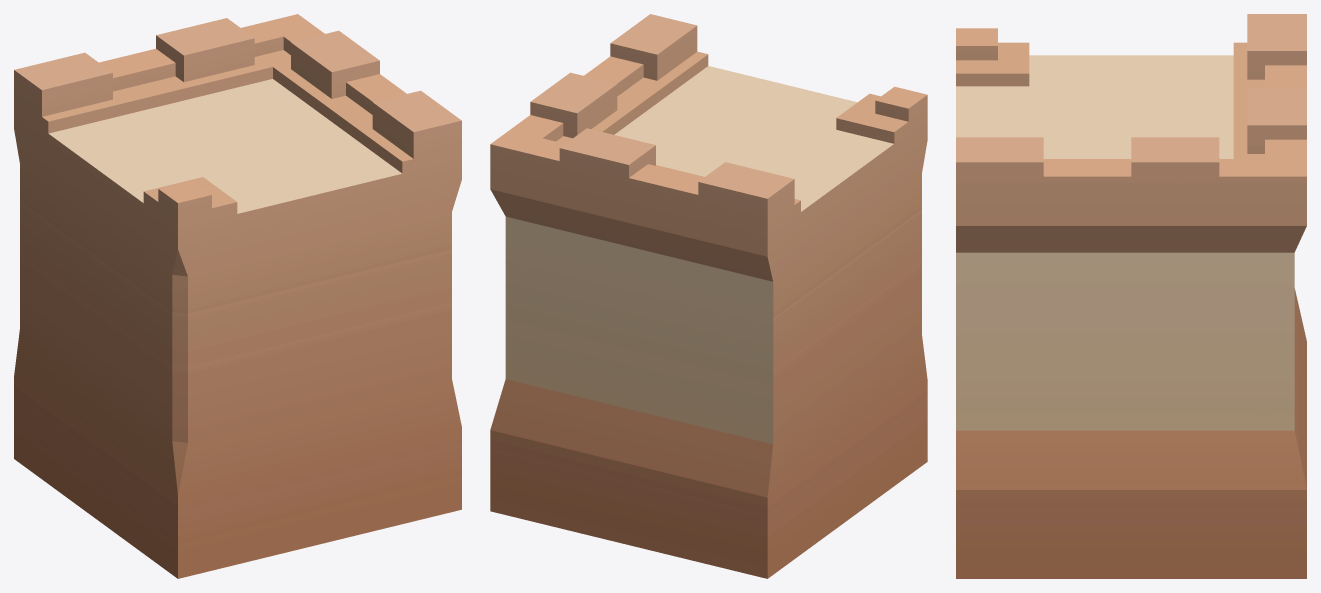
The model's file is wall-corner.glb.
3 renders of one model, left to right at view 1: azimuth 30°, elevation 25°; view 2: azimuth 150°, elevation 25°; view 3: azimuth 270°, elevation 25°, orthographic. The views are drawn at different scales.
Visible parts, largest first — view 1: wall-corner; view 2: wall-corner; view 3: wall-corner.
Part boxes in pixels (x1,y1,x2,y2): wall-corner: [14, 14, 461, 578]; wall-corner: [490, 14, 927, 578]; wall-corner: [956, 14, 1306, 578].
Bounding box in the file's own units: 1 × 1.31 × 1.
Materials: 1 (1 with a texture image).
